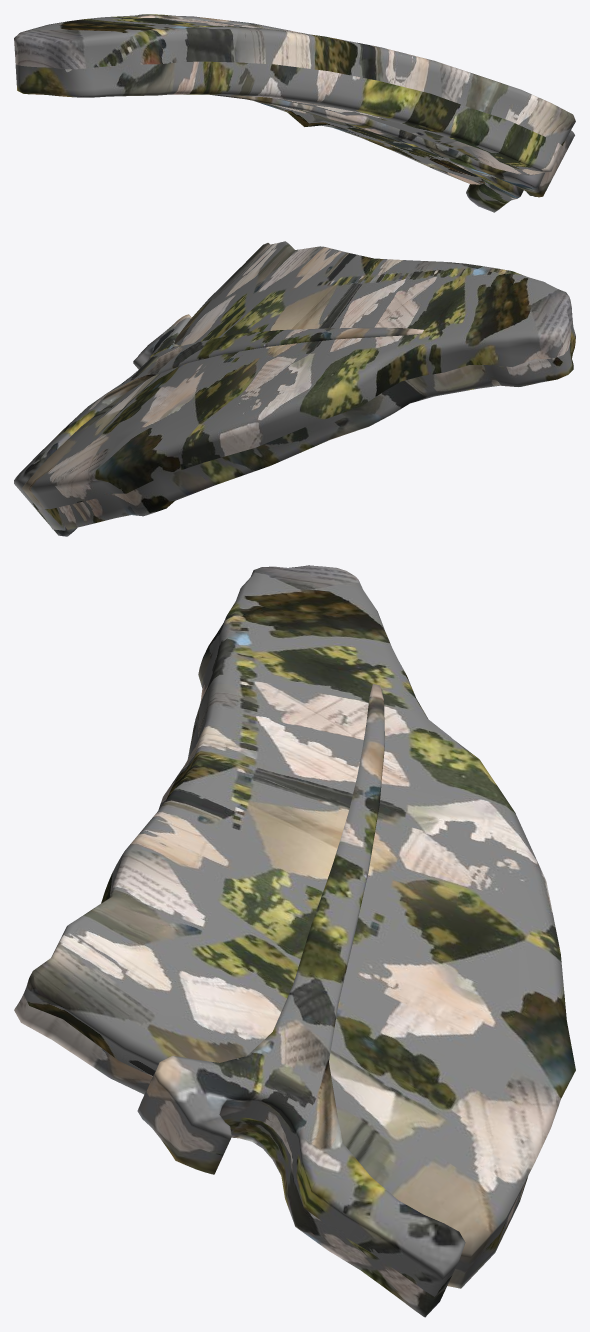
The picture shows the model from 3 angles, top to bottom: view 1: azimuth 30°, elevation 25°; view 2: azimuth 150°, elevation 25°; view 3: azimuth 270°, elevation 25°; orthographic projection. The views are drawn at different scales.
Size of the model in its own units: 1 by 0.5771 by 0.6659.
